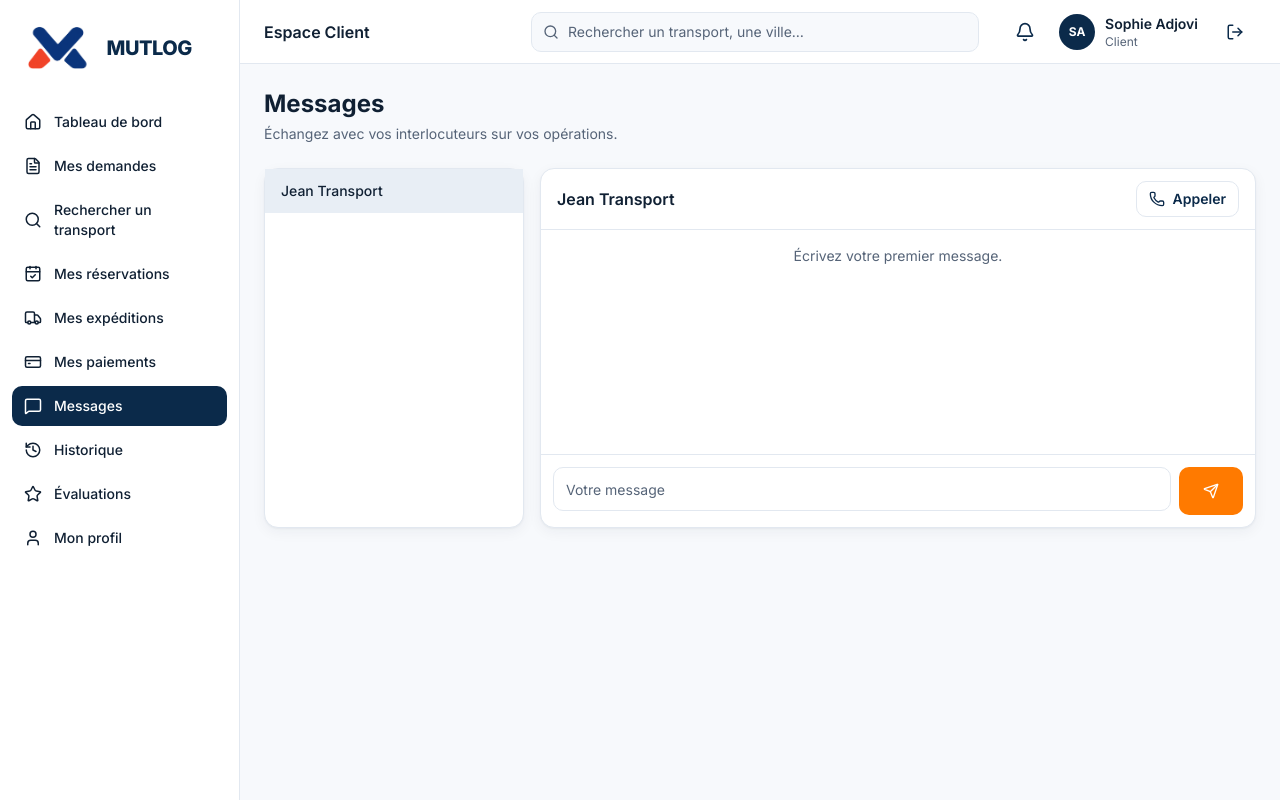
Scenario: appel sortant › le correspondant refuse : « Appel refusé »
Click the button with aria-label "Appeler Jean Transport" at {"x": 1187, "y": 199}, box [1136,181,1239,217]
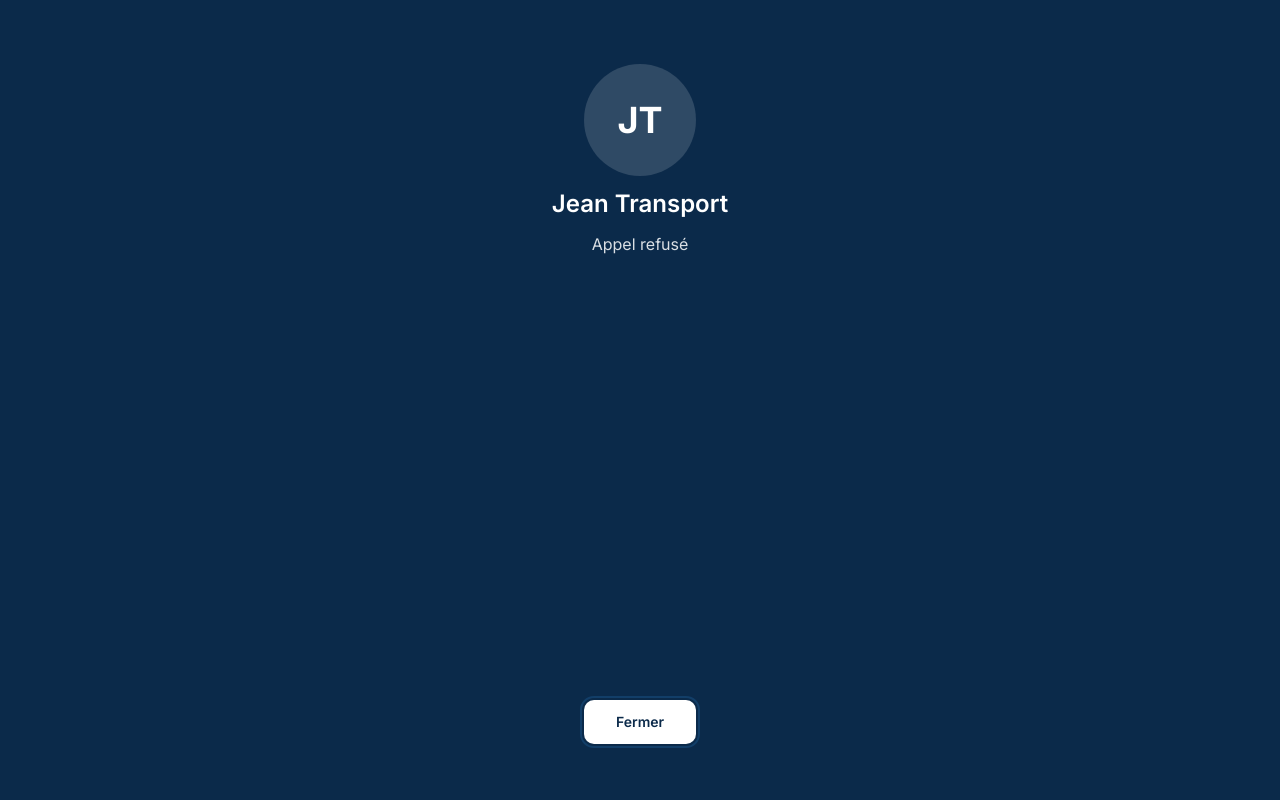
Expected: the text "Appel refusé" is shown, [592,232,688,256]
